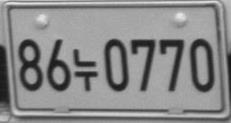0: (188, 37, 215, 92), (103, 37, 129, 92)
6: (46, 39, 72, 91)
7: (159, 37, 185, 92), (130, 38, 155, 91)
8: (17, 38, 43, 92)
누: (73, 48, 98, 92)
